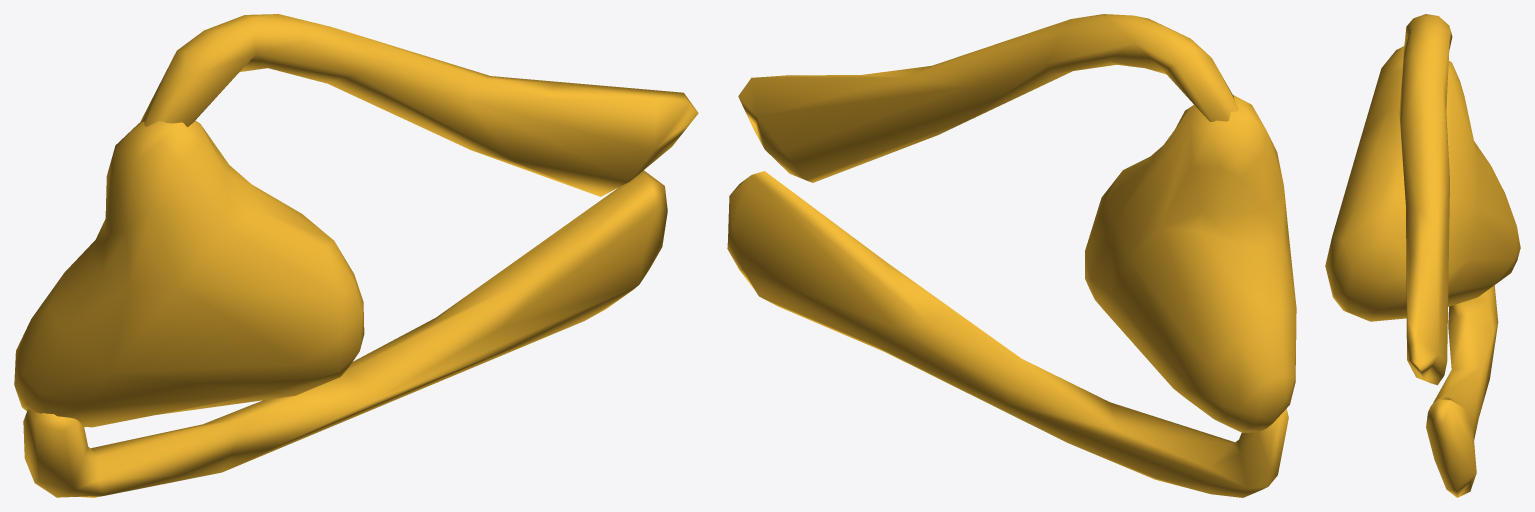
File: nervoso-lacrimal-canaliculus-r.glb
The picture shows the model from 3 angles, left to right: view 1: azimuth 30°, elevation 25°; view 2: azimuth 150°, elevation 25°; view 3: azimuth 270°, elevation 25°; orthographic projection. The views are drawn at different scales.
Parts seen in each view (by area): view 1: Lacrimal canaliculus.r, Ampulla of lacrimal canaliculus.r; view 2: Lacrimal canaliculus.r, Ampulla of lacrimal canaliculus.r; view 3: Lacrimal canaliculus.r, Ampulla of lacrimal canaliculus.r.
Part boxes in pixels (x1,y1,x2,y2): Lacrimal canaliculus.r: [23, 14, 698, 497]; Ampulla of lacrimal canaliculus.r: [14, 120, 364, 427]; Lacrimal canaliculus.r: [727, 14, 1288, 497]; Ampulla of lacrimal canaliculus.r: [1085, 95, 1296, 432]; Lacrimal canaliculus.r: [1399, 14, 1498, 497]; Ampulla of lacrimal canaliculus.r: [1325, 46, 1520, 321].
Size of the model in its own units: 0.00714 by 0.00501 by 0.0023.
